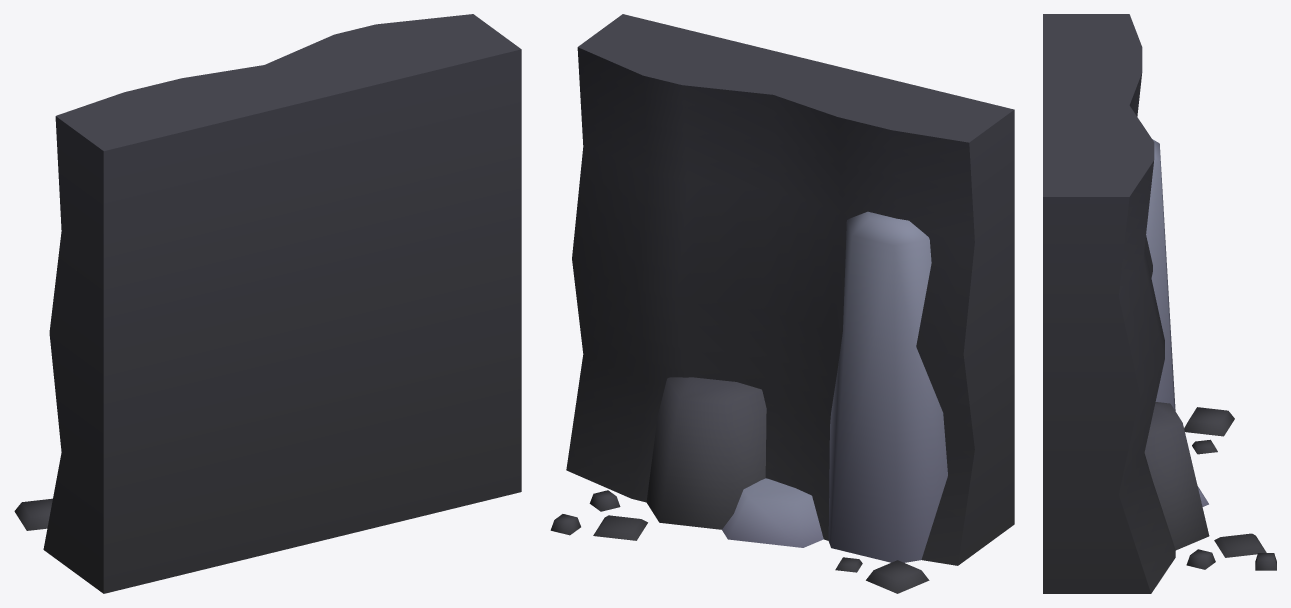
File: template-wall.fbx
3 views of the same model, side by side, from view 1: azimuth 30°, elevation 25°; view 2: azimuth 150°, elevation 25°; view 3: azimuth 270°, elevation 25° (orthographic). The views are drawn at different scales.
Parts seen in each view (by area): view 1: template-wall; view 2: template-wall; view 3: template-wall.
Boxes of the visible parts, x1,y1,x2,y2 form: template-wall: [14, 14, 521, 593]; template-wall: [550, 14, 1014, 593]; template-wall: [1043, 14, 1276, 593].
Bounding box in the file's own units: 400 × 405 × 216.
